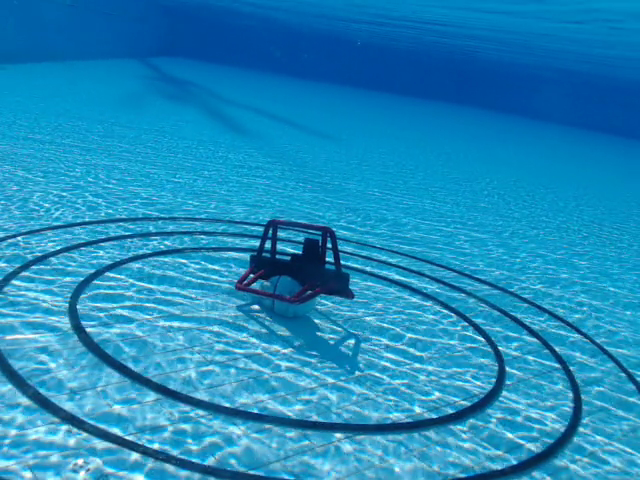submarine: (233, 217, 359, 305)
